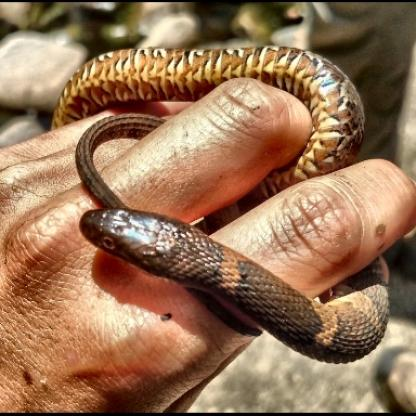Snake: (50, 20, 392, 370)
